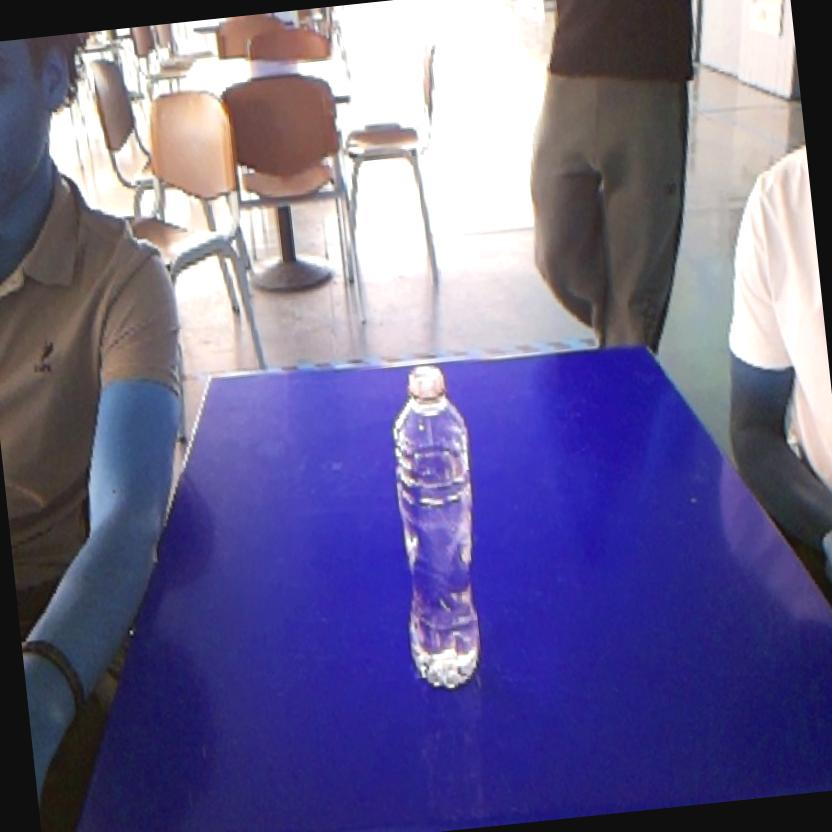no_cap: (374, 353, 501, 699)
